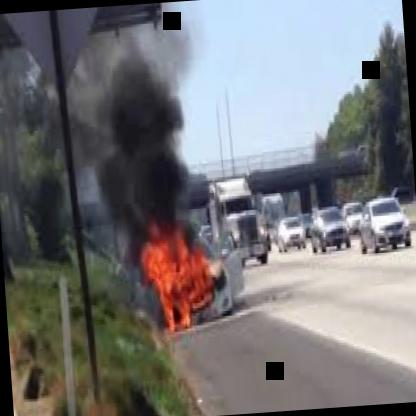fire: (121, 191, 212, 364)
